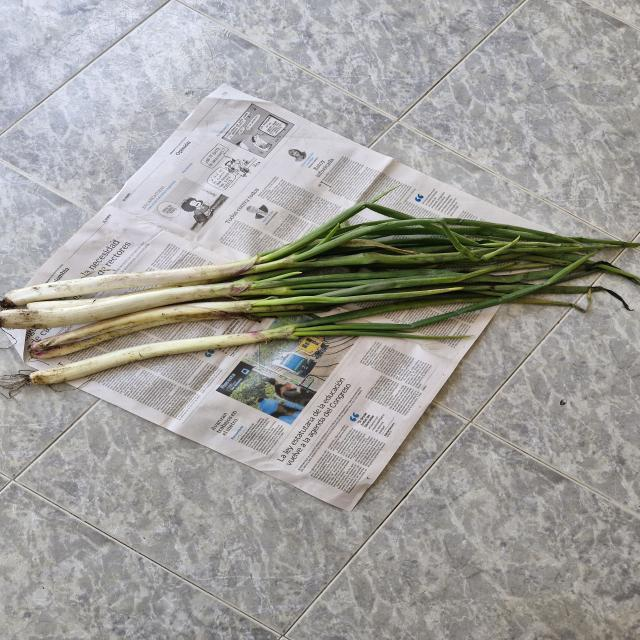green_onion: (0, 202, 610, 318), (8, 276, 552, 381)
